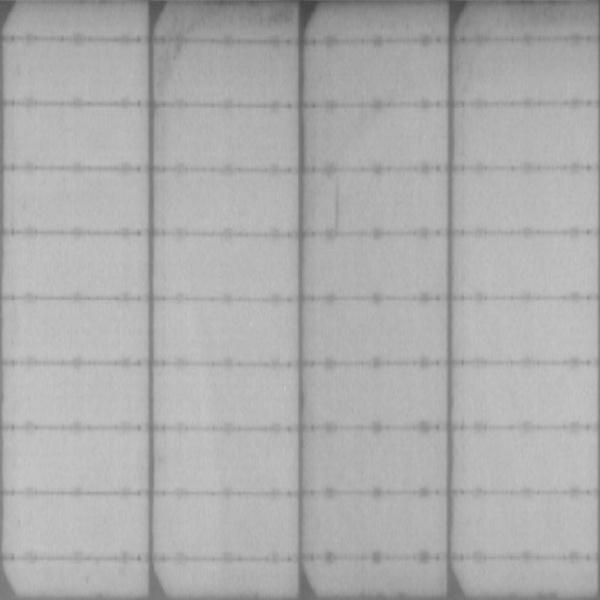scratch: (329, 178, 346, 235)
